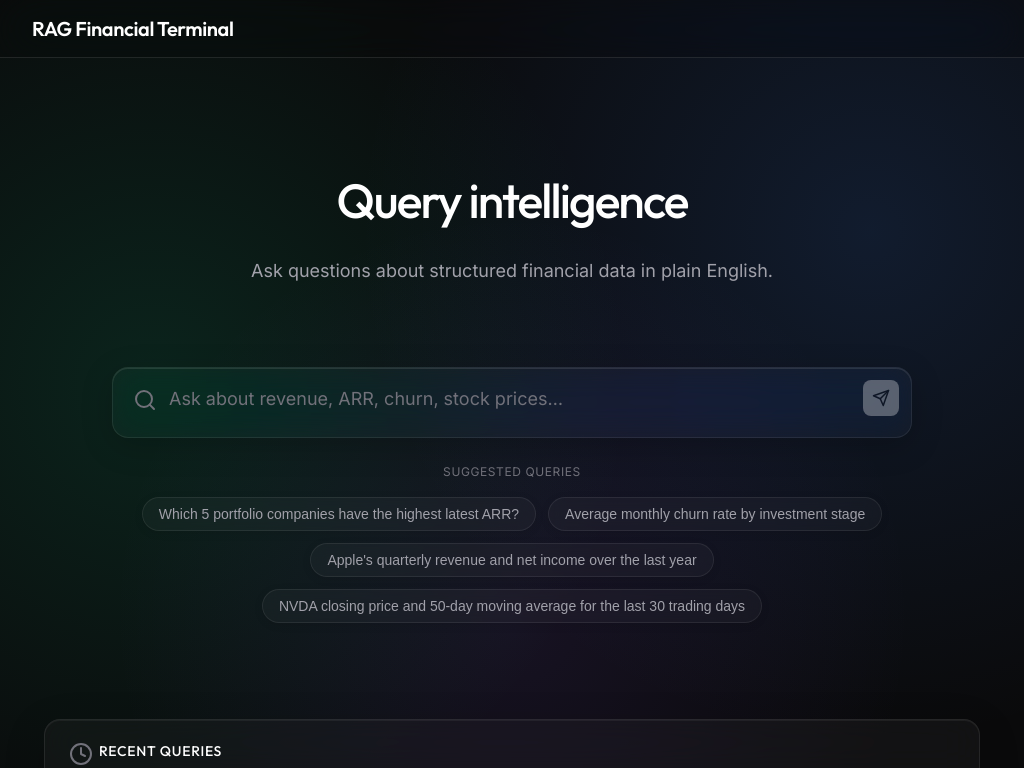
it: App › shows pipeline failures with the agent trace
The image size is (1024, 768).
In the text box named "ask a question": point(512, 399) x1=113 y1=368 x2=911 y2=429, type "Drop all tables"
Then press Enter
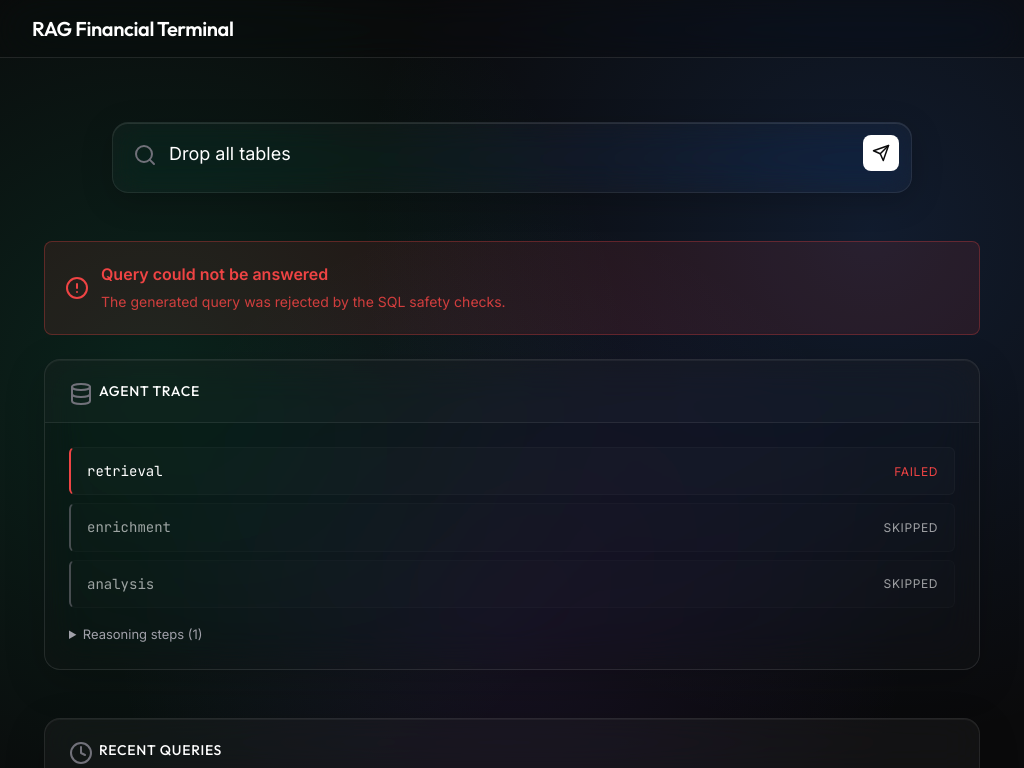
Expected: the message shows "The generated query was rejected by the SQL safety checks.", x1=101 y1=293 x2=506 y2=310
Expected: the text "failed" is shown, x1=894 y1=462 x2=938 y2=481
